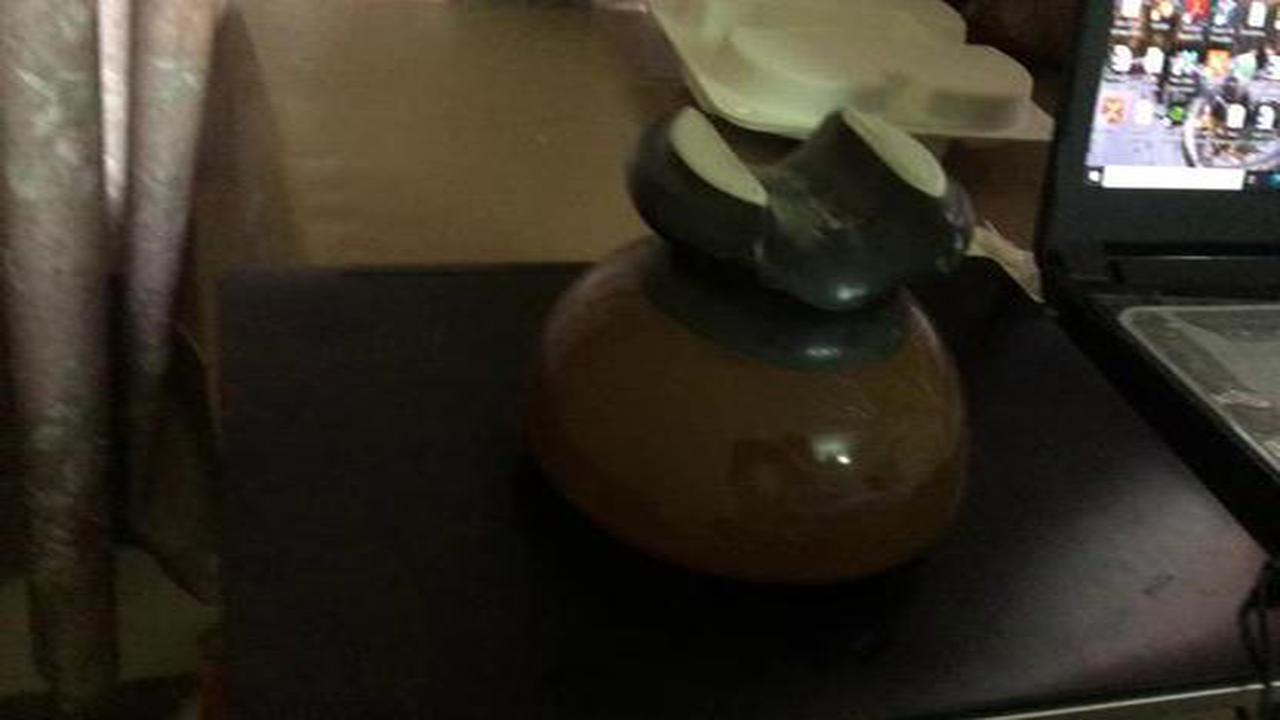insulator_pin: (490, 80, 1047, 608)
